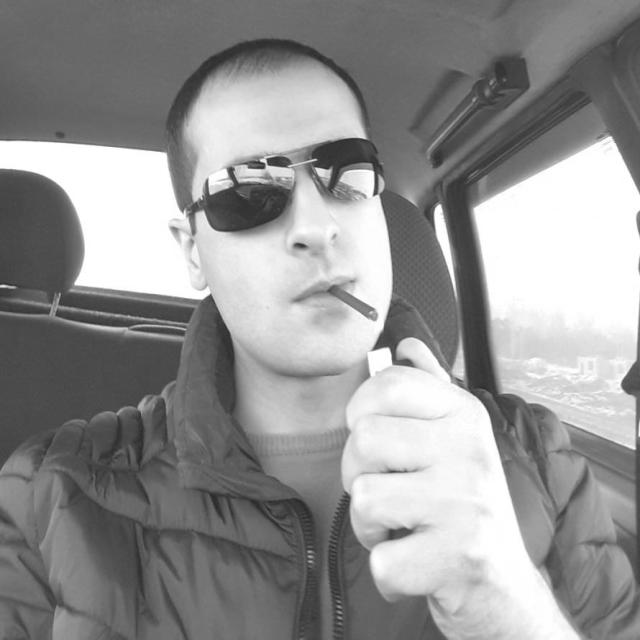Cigarette: (322, 281, 384, 323)
